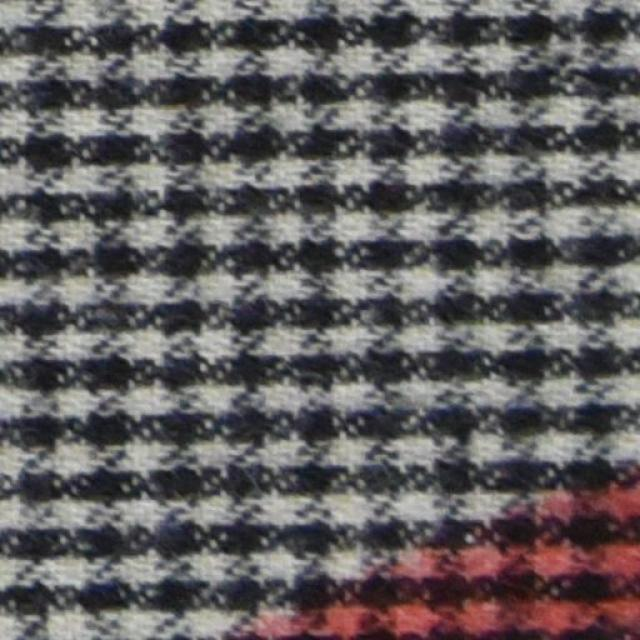Stain: (236, 471, 639, 640)
